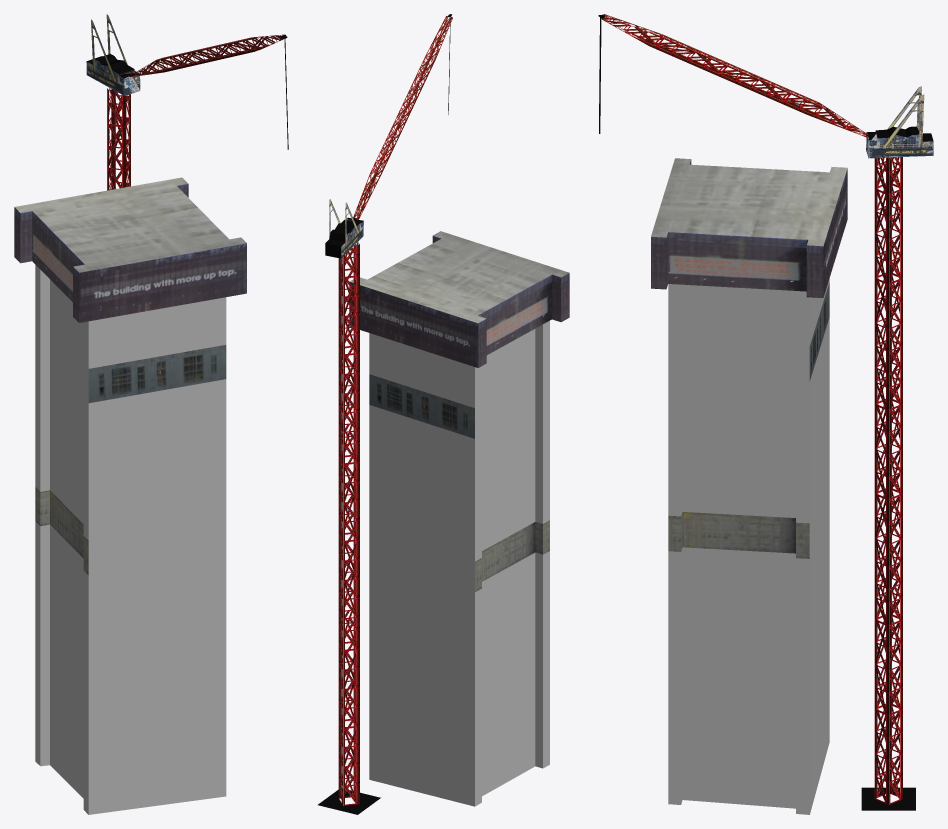
File: construction.fbx
The picture shows the model from 3 angles, left to right: view 1: azimuth 30°, elevation 25°; view 2: azimuth 150°, elevation 25°; view 3: azimuth 270°, elevation 25°; orthographic projection. The views are drawn at different scales.
Parts seen in each view (by area): view 1: Group1, Group2, Component_45_1, Component_104_2; view 2: Group1, Group2, Component_44_1, Component_104_1, Component_45_1, Component_104_2; view 3: Group1, Group2, Component_45_1, Component_44_1, Component_104_1, Component_104_2.
Part boxes in pixels (x1,y1,x2,y2): Group1: [35, 265, 226, 814]; Group2: [14, 177, 246, 322]; Component_45_1: [86, 14, 288, 149]; Component_104_2: [107, 88, 130, 190]; Group1: [369, 320, 549, 806]; Group2: [349, 231, 569, 367]; Component_44_1: [318, 611, 380, 814]; Component_104_1: [338, 424, 359, 619]; Component_45_1: [325, 14, 452, 258]; Component_104_2: [338, 242, 359, 432]; Group1: [668, 279, 829, 814]; Group2: [651, 158, 847, 297]; Component_45_1: [598, 14, 933, 158]; Component_44_1: [861, 578, 915, 810]; Component_104_1: [874, 363, 902, 589]; Component_104_2: [874, 157, 902, 373].
Size of what is drawn, in the model's own units: 23.71 by 101 by 38.14.
